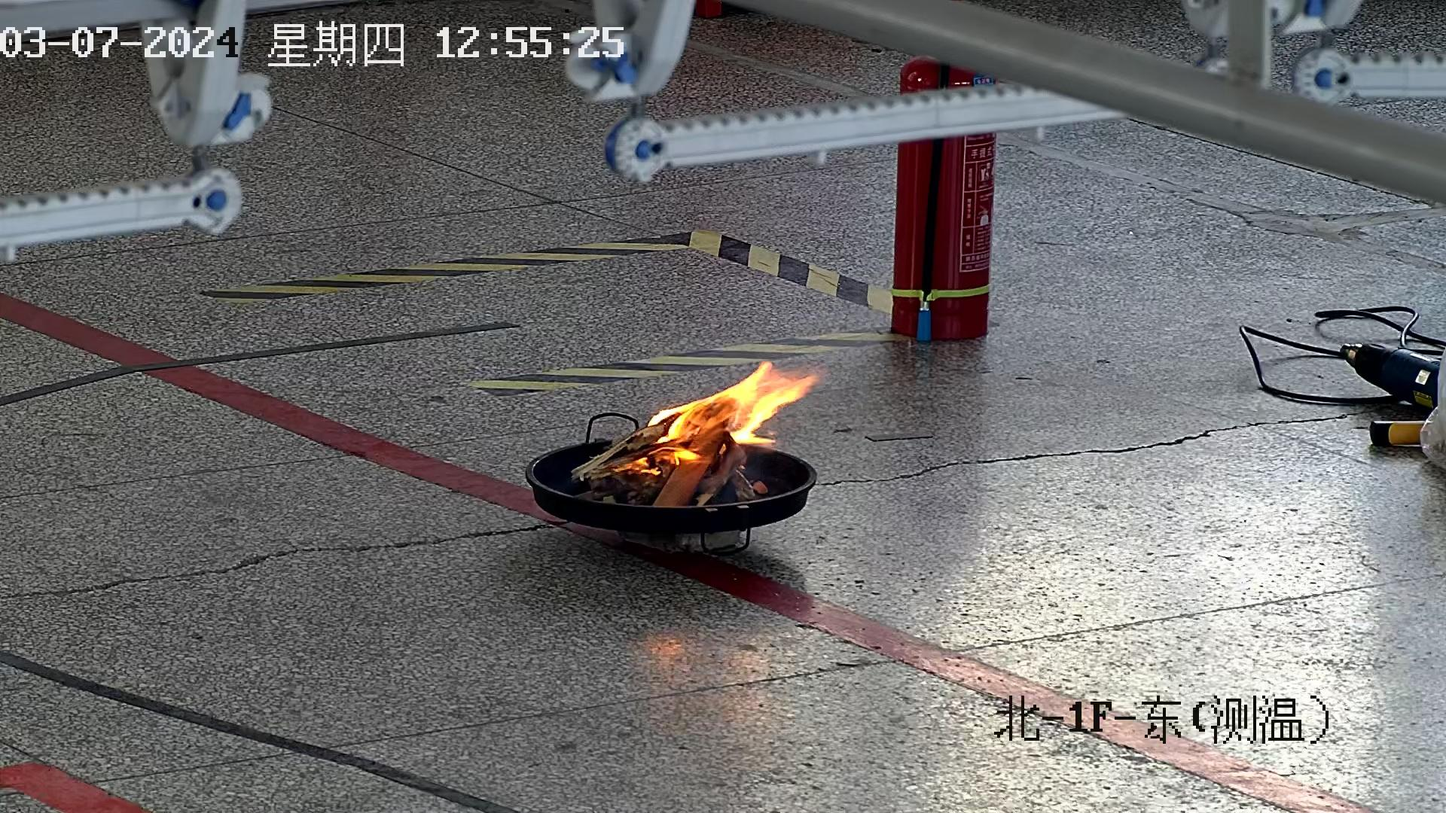fire: (573, 361, 816, 495)
